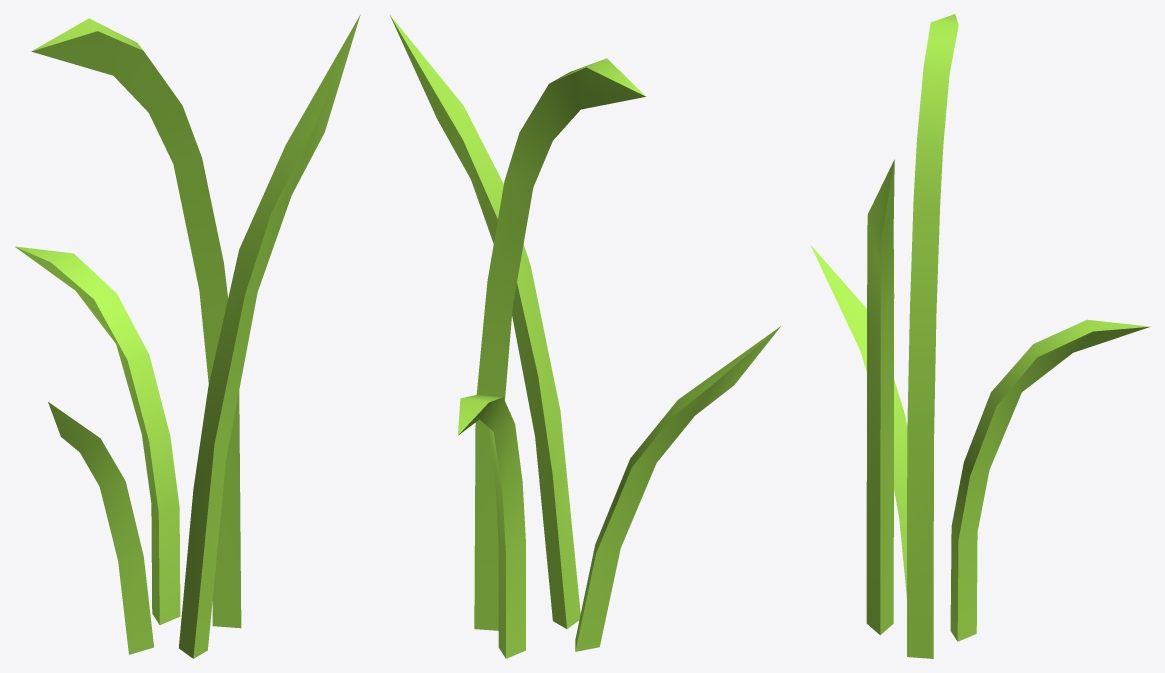
File: grass1.FBX
3 renders of one model, left to right at view 1: azimuth 30°, elevation 25°; view 2: azimuth 150°, elevation 25°; view 3: azimuth 270°, elevation 25°, orthographic. The views are drawn at different scales.
Visible parts, largest first — view 1: Bundle 1; view 2: Bundle 1; view 3: Bundle 1.
Boxes of the visible parts, <box> form: Bundle 1: <box>14,15,360,658</box>; Bundle 1: <box>390,15,780,658</box>; Bundle 1: <box>810,14,1150,658</box>.
Bounding box in the file's own units: 90.76 × 150 × 80.49.
